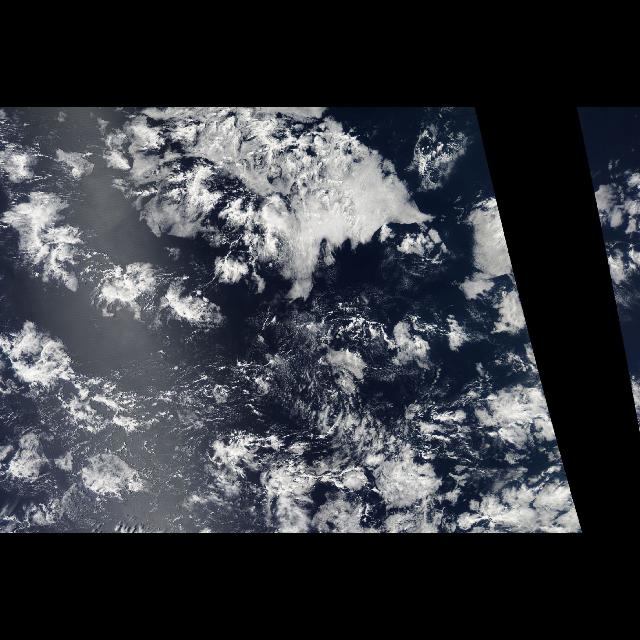Flower: (0, 155, 224, 369)
Gravel: (1, 334, 128, 522)
